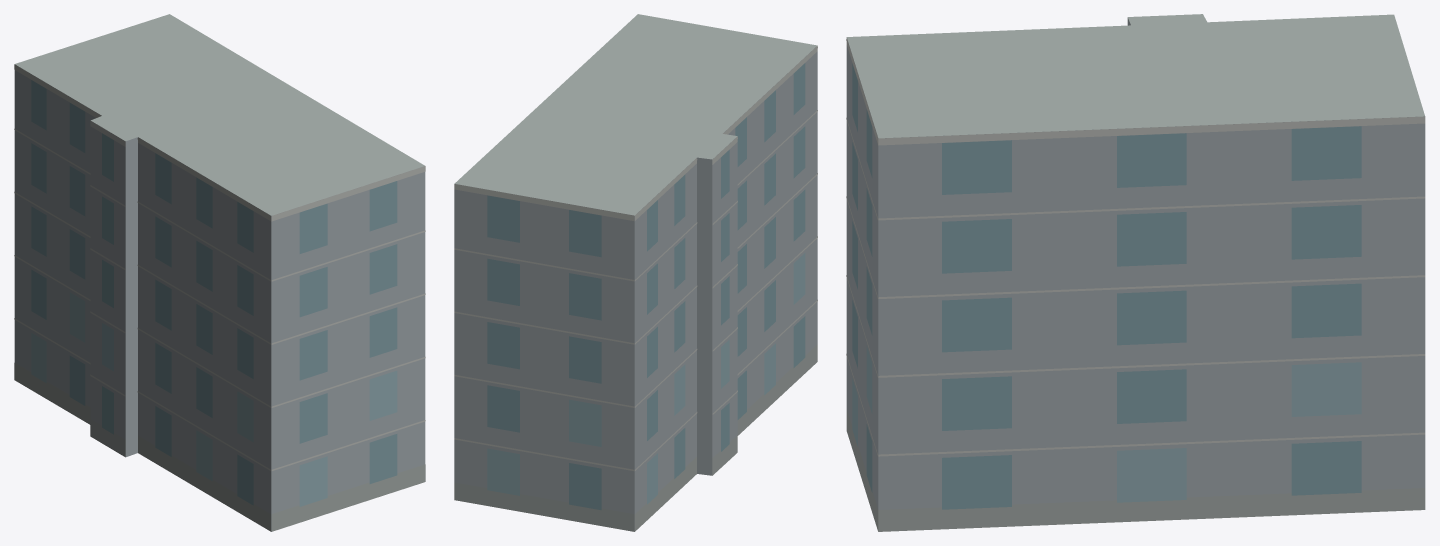
File: survey-upis-32769775.glb
The picture shows the model from 3 angles, left to right: view 1: azimuth 30°, elevation 25°; view 2: azimuth 150°, elevation 25°; view 3: azimuth 270°, elevation 25°; orthographic projection. The views are drawn at different scales.
Visible parts, largest first — view 1: survey-upis-32769775.tmp; view 2: survey-upis-32769775.tmp; view 3: survey-upis-32769775.tmp.
Part boxes in pixels (x1,y1,x2,y2): survey-upis-32769775.tmp: (14, 14, 425, 531); survey-upis-32769775.tmp: (454, 14, 817, 531); survey-upis-32769775.tmp: (846, 14, 1425, 531).
Size of the model in its own units: 9.18 by 13.5 by 18.02.
